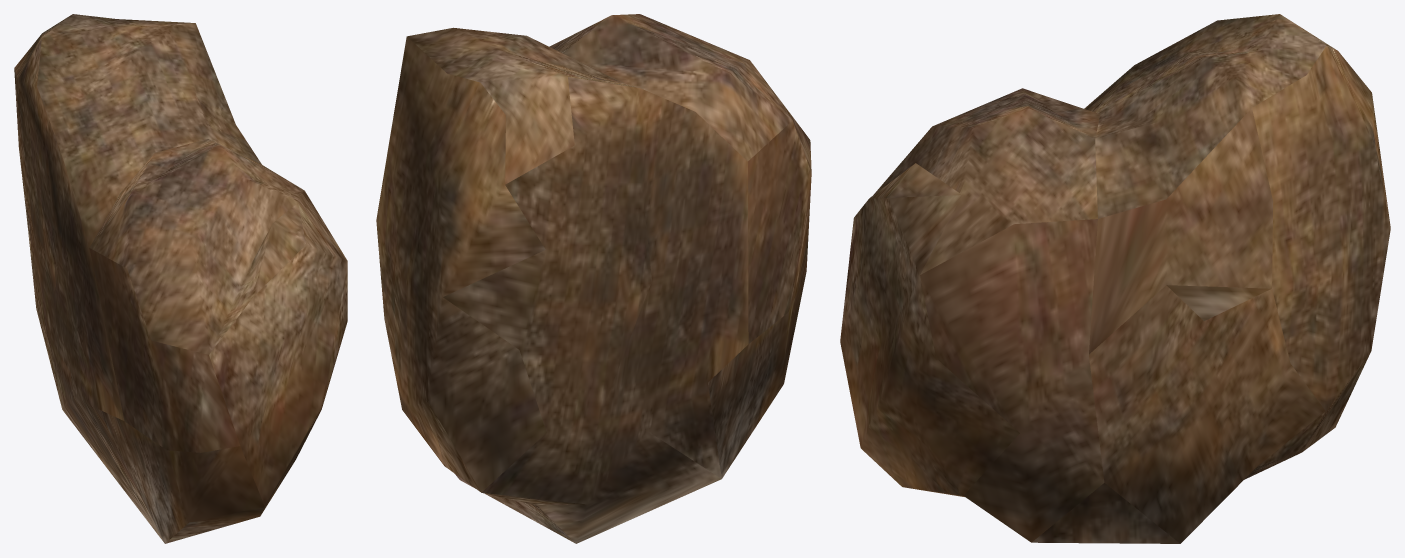
Rendered from namaqualand_boulder_06_lo.glb.
The picture shows the model from 3 angles, left to right: view 1: azimuth 30°, elevation 25°; view 2: azimuth 150°, elevation 25°; view 3: azimuth 270°, elevation 25°; orthographic projection. The views are drawn at different scales.
Visible parts, largest first — view 1: namaqualand_boulder_06_lo; view 2: namaqualand_boulder_06_lo; view 3: namaqualand_boulder_06_lo.
Boxes of the visible parts, bbox=[...] form: namaqualand_boulder_06_lo: bbox=[14, 14, 347, 543]; namaqualand_boulder_06_lo: bbox=[376, 14, 811, 543]; namaqualand_boulder_06_lo: bbox=[840, 14, 1390, 543].
Bounding box in the file's own units: 0.5357 × 0.9719 × 0.9892.
1 material, 1 textured.
